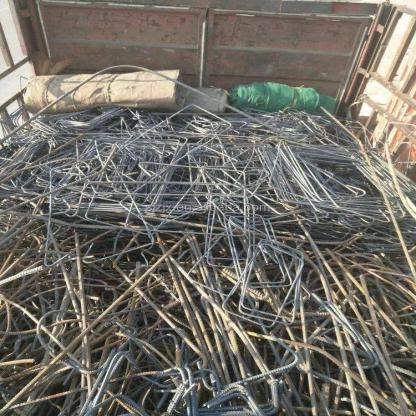rebar: (0, 94, 415, 414)
